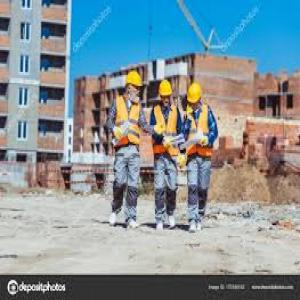yellow: (187, 82, 204, 112), (158, 79, 175, 107), (126, 72, 143, 100)
